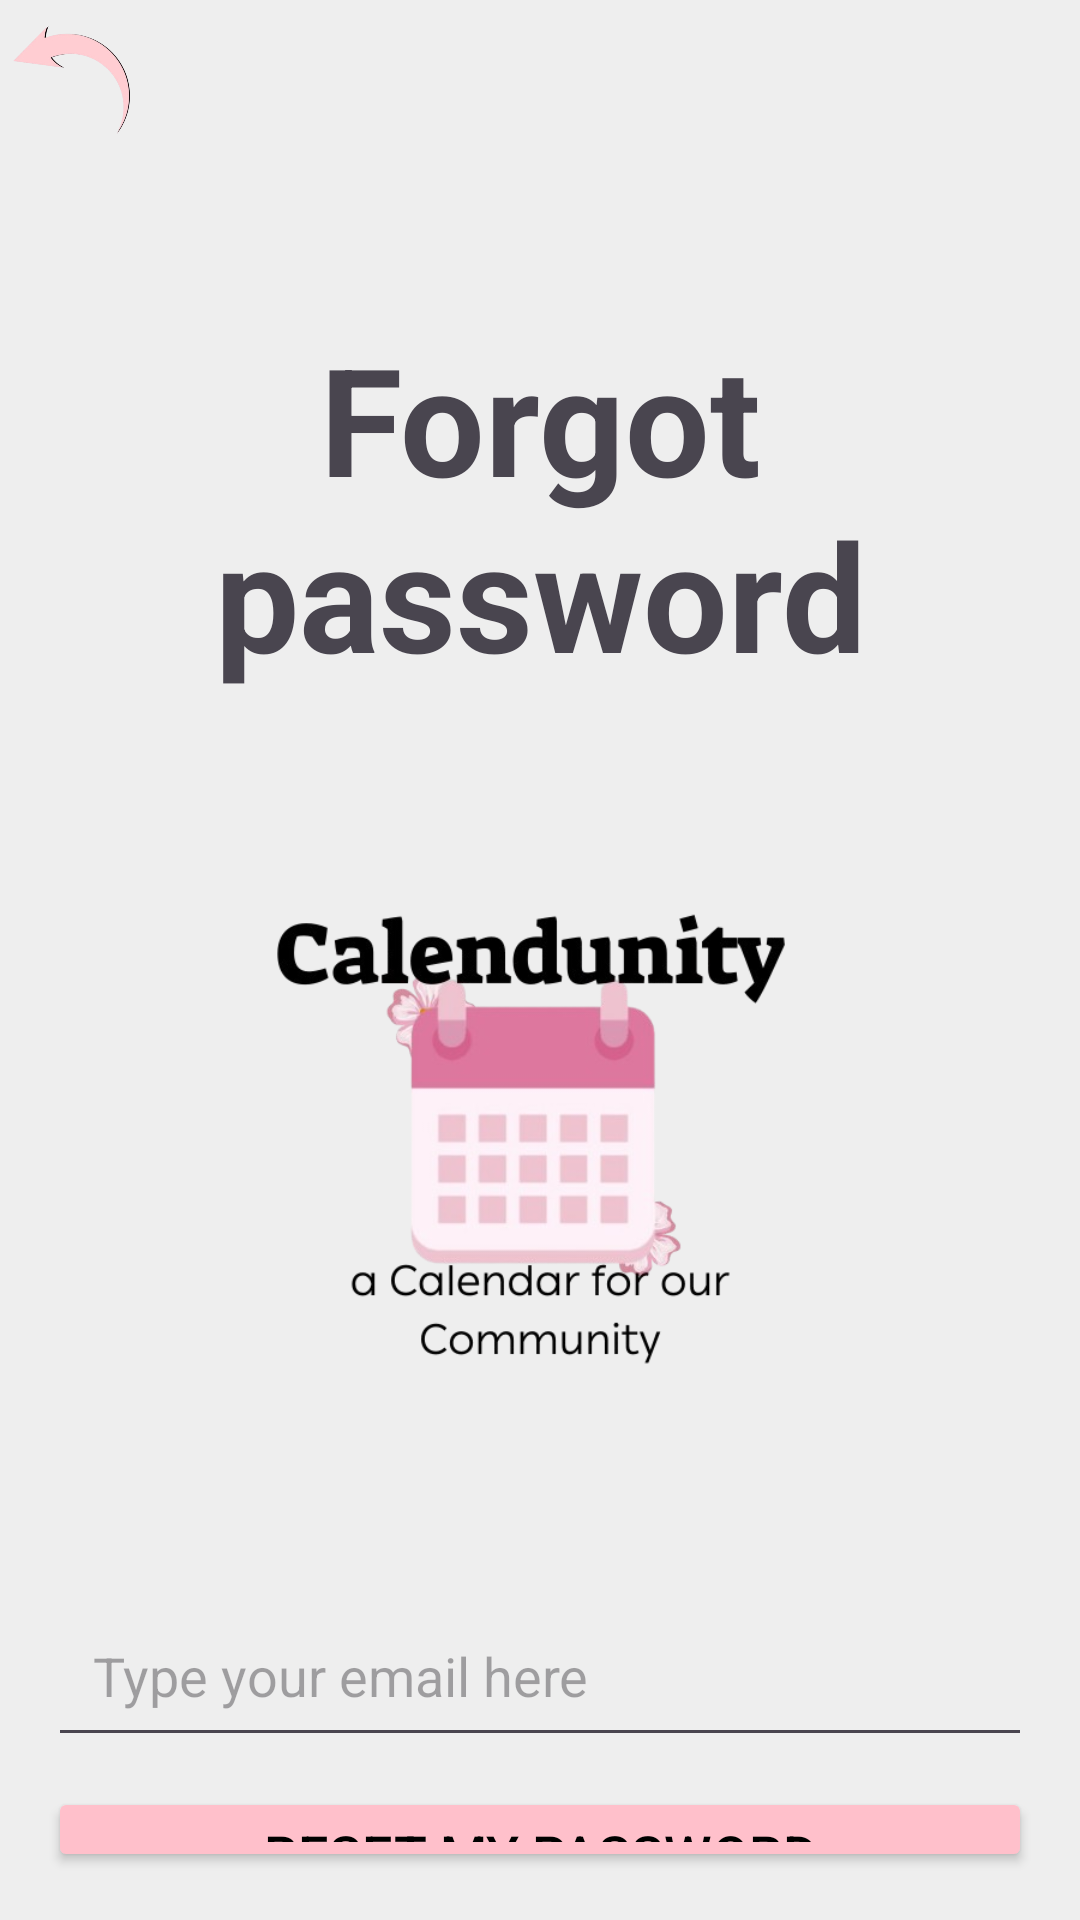

Icon click points for this 1080 × 1920 phone screenshot, format [x,y]:
Back Button: [72,79]
